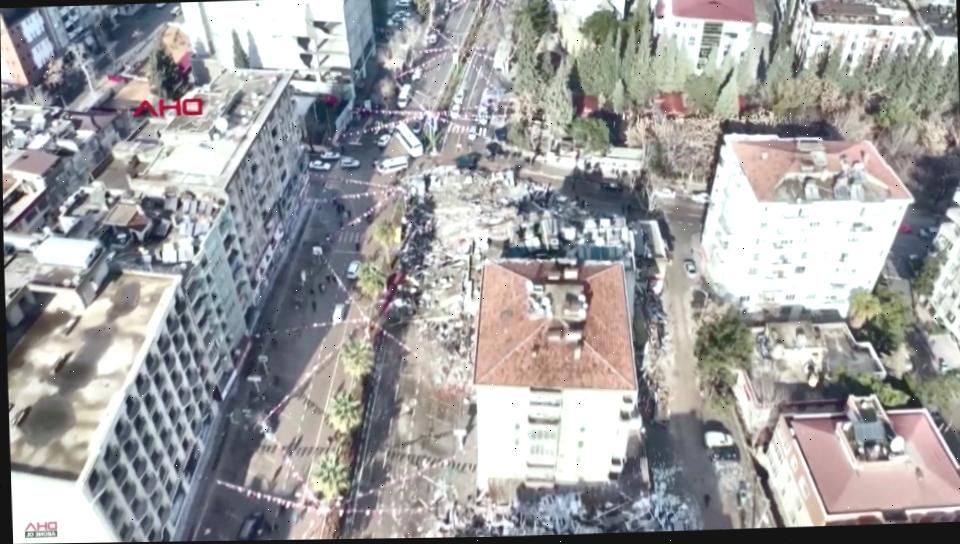kapali: (374, 131, 488, 410), (485, 153, 645, 218)
